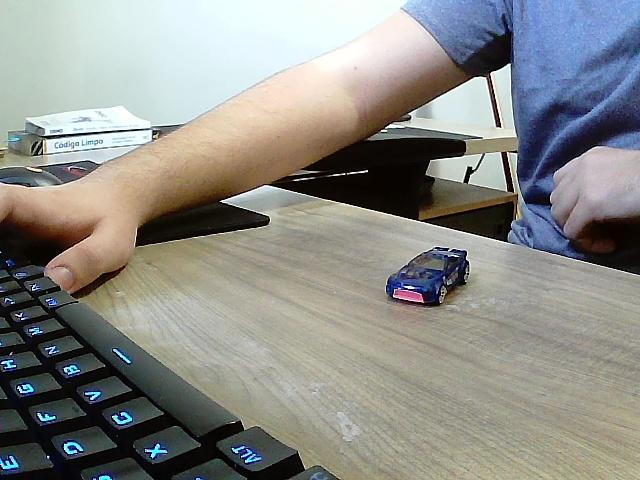Carro: (386, 248, 468, 308)
